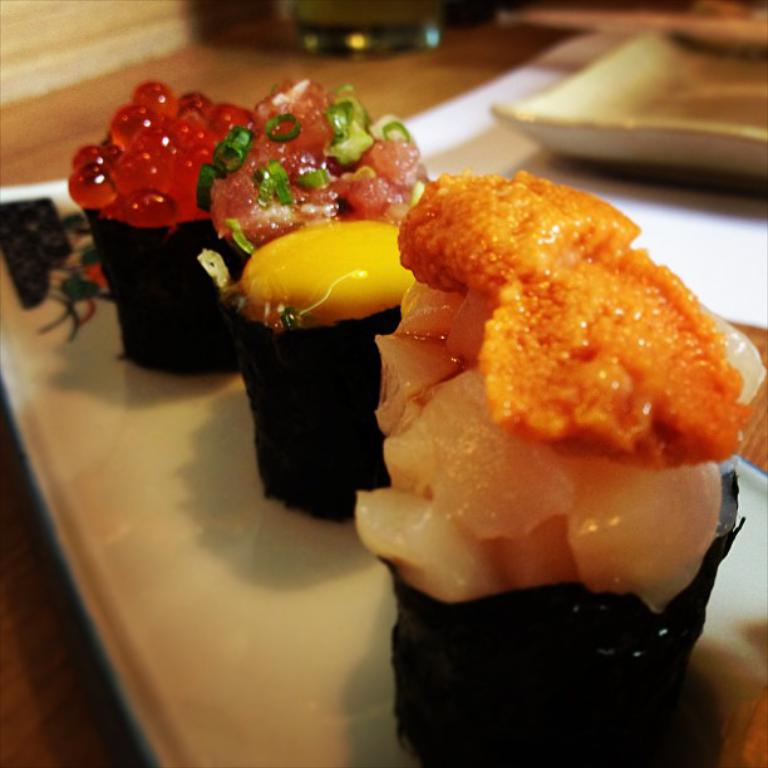sushi: (333, 189, 762, 683), (189, 78, 433, 518), (72, 80, 256, 378)
